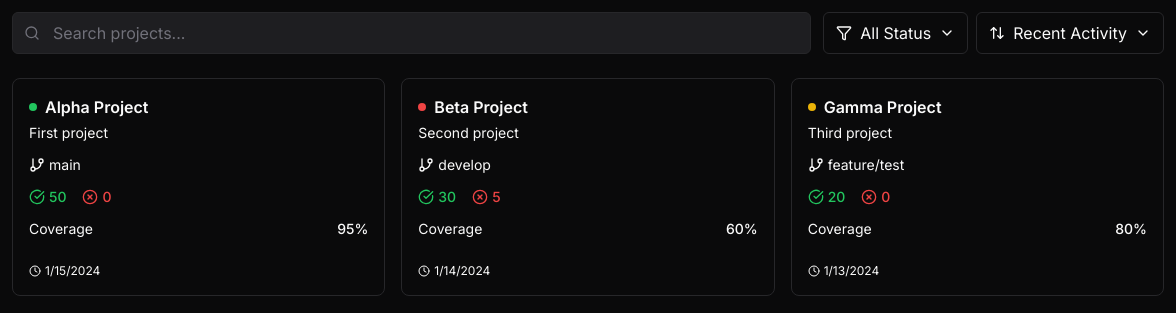
ProjectGrid › filters projects by search query
The width and height of the screenshot is (1176, 313).
Type "Alpha" into the field with placeholder "Search projects..." at (412, 33), box [12,12,811,54]
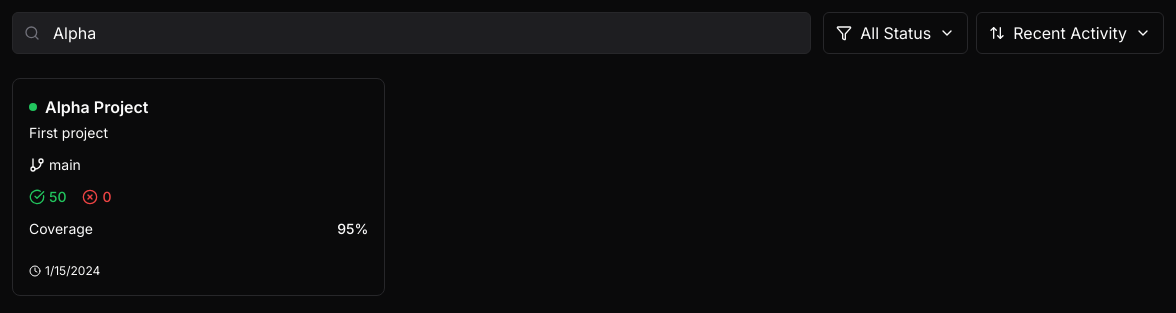
Expected: the heading "Alpha Project" is shown, [45,95,148,119]
Expected: the link "Beta Project" is gone
Expected: the link "Gamma Project" is gone
